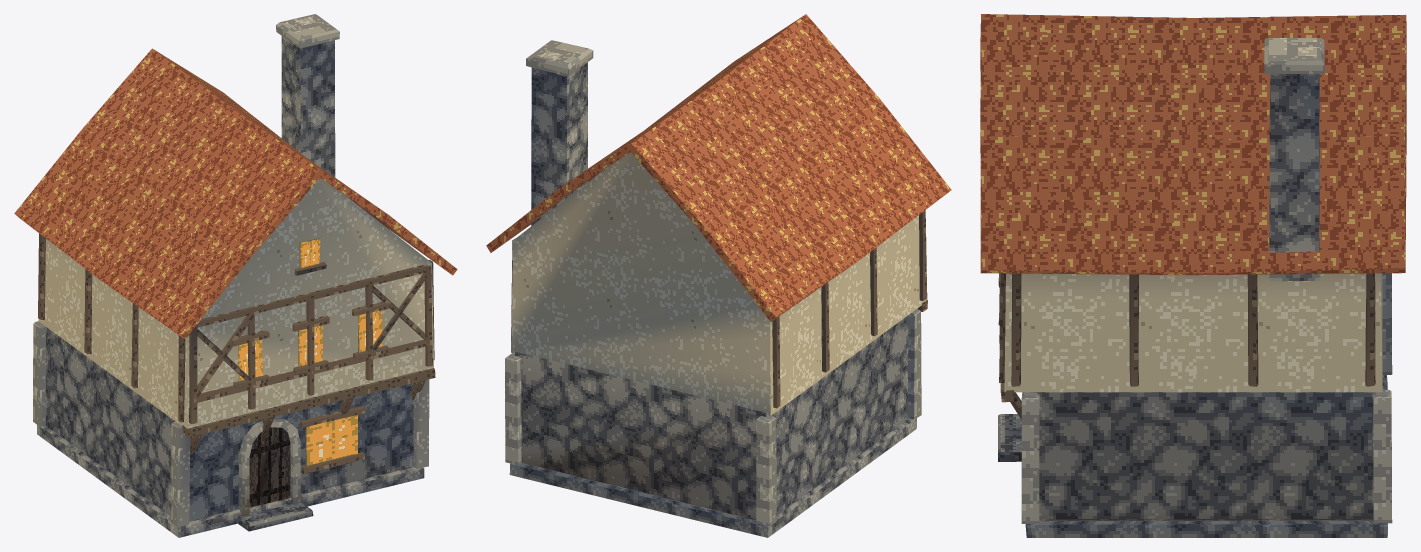
Rendered from vlg.cottage__townhouse.glb.
3 views of the same model, side by side, from view 1: azimuth 30°, elevation 25°; view 2: azimuth 150°, elevation 25°; view 3: azimuth 270°, elevation 25° (orthographic). The views are drawn at different scales.
Parts seen in each view (by area): view 1: kit_walls, kit_roof, kit_frame, kit_fittings, kit_stonework; view 2: kit_walls, kit_roof, kit_stonework, kit_frame; view 3: kit_roof, kit_walls, kit_stonework, kit_frame, kit_fittings.
Boxes of the visible parts, x1,y1,x2,y2 form: kit_walls: [38, 178, 433, 521]; kit_roof: [14, 48, 457, 338]; kit_frame: [33, 233, 435, 526]; kit_fittings: [233, 238, 389, 531]; kit_stonework: [37, 14, 424, 537]; kit_walls: [511, 152, 926, 520]; kit_roof: [486, 14, 951, 321]; kit_stonework: [509, 40, 916, 537]; kit_frame: [505, 210, 927, 526]; kit_roof: [980, 14, 1406, 275]; kit_walls: [1004, 273, 1382, 520]; kit_stonework: [1025, 38, 1387, 537]; kit_frame: [999, 273, 1392, 524]; kit_fittings: [998, 273, 1021, 461].
Bounding box in the file's own units: 6.97 × 9.07 × 7.28.
Materials: 8 (8 with a texture image).
